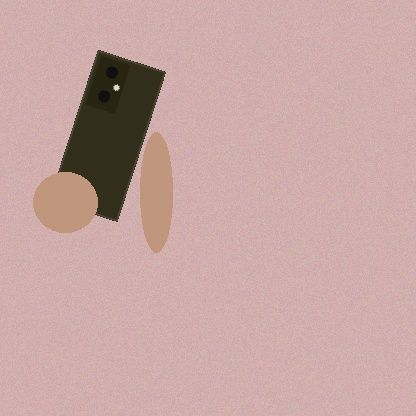cell_phone: (49, 50, 166, 222)
